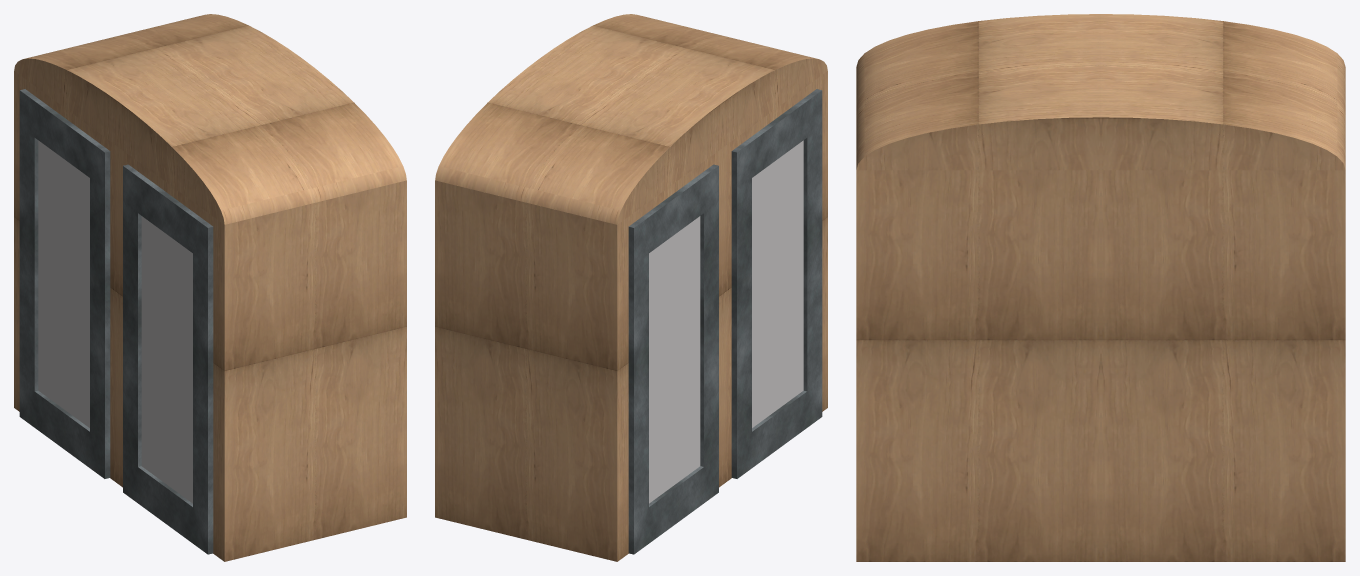
Rendered from armoire-concept-1.fbx.
3 renders of one model, left to right at view 1: azimuth 30°, elevation 25°; view 2: azimuth 150°, elevation 25°; view 3: azimuth 270°, elevation 25°, orthographic. The views are drawn at different scales.
Parts seen in each view (by area): view 1: block (×2), window_small (×2), block_corner_round_large (×2); view 2: block (×2), window_small (×2), block_corner_round_large (×2); view 3: block (×2), block_corner_round_large (×2).
Boxes of the visible parts, left/top/right/bottom form: block (×2): left=14, top=71, right=406, bottom=561; window_small (×2): left=19, top=89, right=213, bottom=554; block_corner_round_large (×2): left=14, top=14, right=406, bottom=224; block (×2): left=435, top=71, right=827, bottom=561; window_small (×2): left=628, top=89, right=822, bottom=554; block_corner_round_large (×2): left=435, top=14, right=827, bottom=224; block (×2): left=856, top=170, right=1345, bottom=561; block_corner_round_large (×2): left=856, top=14, right=1345, bottom=170.
Size of the model in its own units: 10.3 by 20.05 by 20.
Materials: 3 (2 with a texture image).
